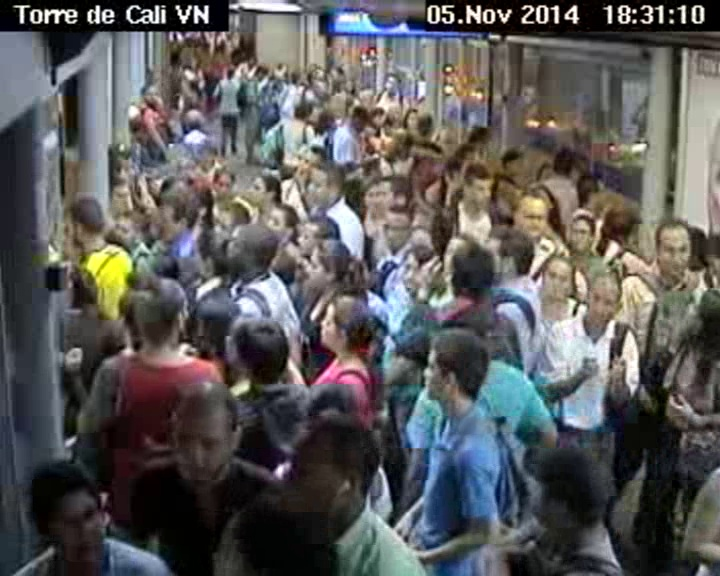person: (278, 409, 392, 530), (193, 497, 348, 576), (515, 441, 619, 543), (23, 453, 116, 566), (162, 374, 246, 487), (115, 264, 196, 358), (420, 322, 489, 419), (313, 295, 390, 367), (223, 312, 295, 386), (439, 234, 490, 298), (226, 220, 281, 279), (298, 159, 354, 215), (598, 200, 656, 254), (652, 215, 696, 286), (302, 237, 354, 294), (58, 193, 105, 256), (486, 228, 544, 279), (578, 268, 625, 330), (690, 277, 720, 365), (396, 242, 440, 297), (511, 192, 556, 244), (539, 254, 576, 314), (457, 161, 496, 214), (296, 215, 346, 254), (102, 172, 138, 226), (153, 191, 189, 238), (382, 201, 415, 250), (567, 211, 600, 256), (360, 174, 394, 217), (264, 204, 303, 240), (573, 170, 608, 210), (379, 169, 411, 209), (547, 143, 581, 180), (245, 176, 281, 209), (497, 146, 530, 179), (441, 142, 476, 173), (210, 165, 235, 195), (346, 104, 371, 134), (290, 101, 315, 122), (470, 124, 493, 146), (379, 72, 403, 93), (138, 83, 160, 103), (252, 62, 269, 87), (403, 108, 415, 128), (224, 64, 239, 79), (289, 71, 303, 84)
